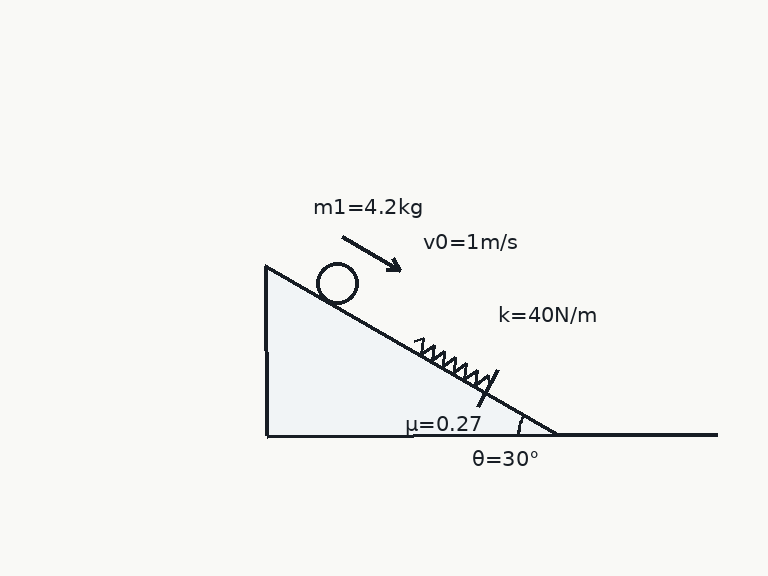ball: (314, 260, 360, 306)
ramp: (264, 265, 560, 437)
spring: (412, 336, 492, 387)
